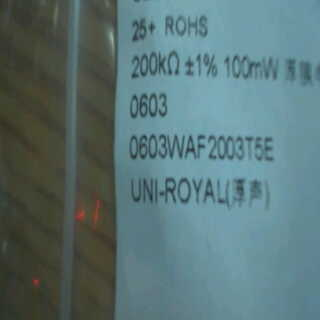200kR: (124, 48, 181, 83)
